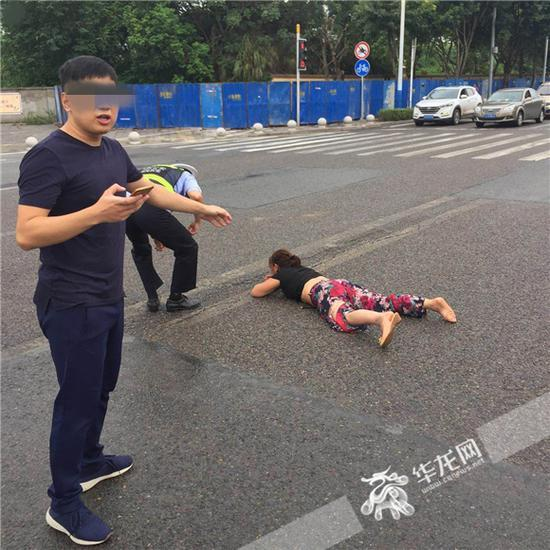bending: (120, 152, 223, 319)
down: (252, 246, 462, 355)
up: (14, 53, 136, 547)
